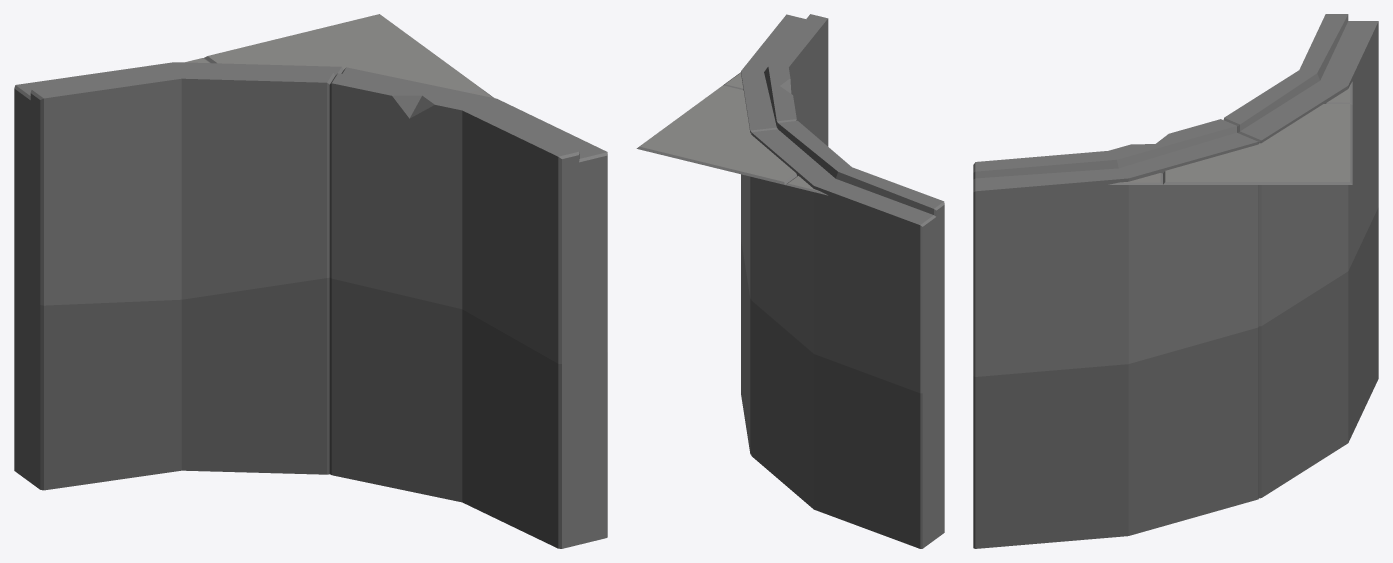
The model's file is SM_Envr_Seawall_Corner_02.fbx.
3 views of the same model, side by side, from view 1: azimuth 30°, elevation 25°; view 2: azimuth 150°, elevation 25°; view 3: azimuth 270°, elevation 25° (orthographic). The views are drawn at different scales.
Visible parts, largest first — view 1: SM_Envr_Seawall_Corner_02; view 2: SM_Envr_Seawall_Corner_02; view 3: SM_Envr_Seawall_Corner_02.
Boxes of the visible parts, x1,y1,x2,y2 form: SM_Envr_Seawall_Corner_02: (14, 14, 607, 548); SM_Envr_Seawall_Corner_02: (636, 14, 944, 548); SM_Envr_Seawall_Corner_02: (973, 14, 1378, 548).
Bounding box in the file's own units: 534 × 530 × 534.
